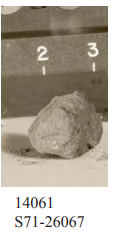Breccia: (14, 83, 89, 179)
